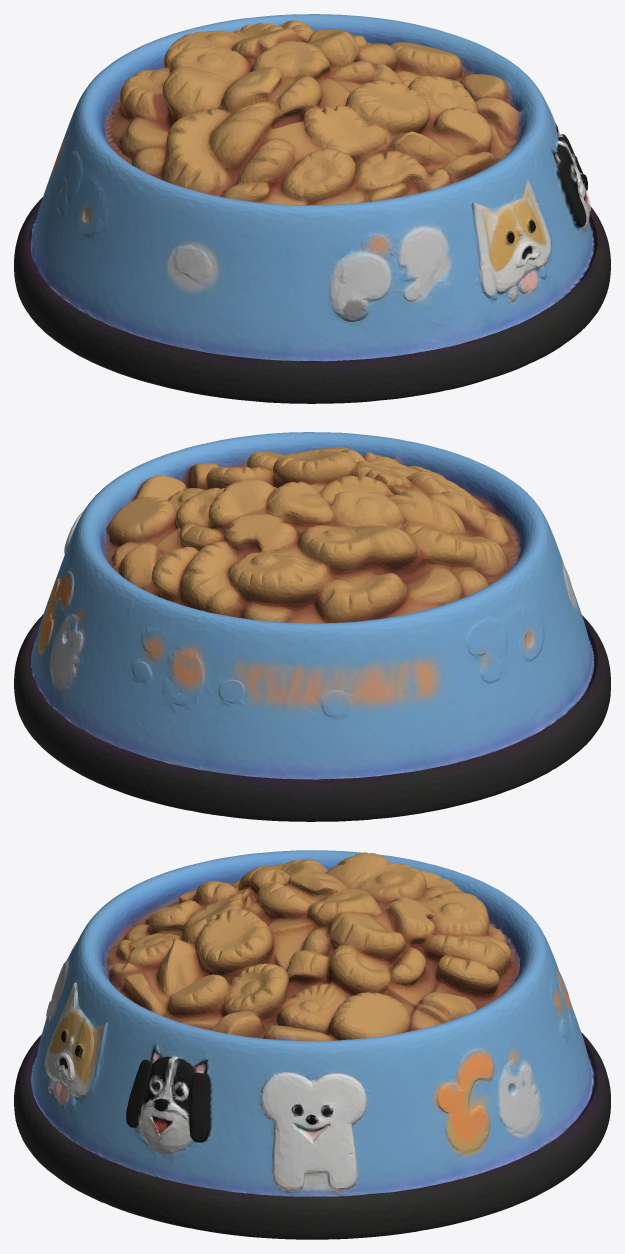
The model's file is bowl_food_4.glb.
The picture shows the model from 3 angles, top to bottom: view 1: azimuth 30°, elevation 25°; view 2: azimuth 150°, elevation 25°; view 3: azimuth 270°, elevation 25°; orthographic projection.
Visible parts, largest first — view 1: tripo_node_ce517e61-4149-4b9e-83d2-1e635d2f2b2d; view 2: tripo_node_ce517e61-4149-4b9e-83d2-1e635d2f2b2d; view 3: tripo_node_ce517e61-4149-4b9e-83d2-1e635d2f2b2d.
Boxes of the visible parts, <box> form: tripo_node_ce517e61-4149-4b9e-83d2-1e635d2f2b2d: <box>14,14,610,403</box>; tripo_node_ce517e61-4149-4b9e-83d2-1e635d2f2b2d: <box>14,432,610,821</box>; tripo_node_ce517e61-4149-4b9e-83d2-1e635d2f2b2d: <box>14,850,610,1239</box>.
Bounding box in the file's own units: 1 × 0.4054 × 0.9998.
1 material, 1 textured.
